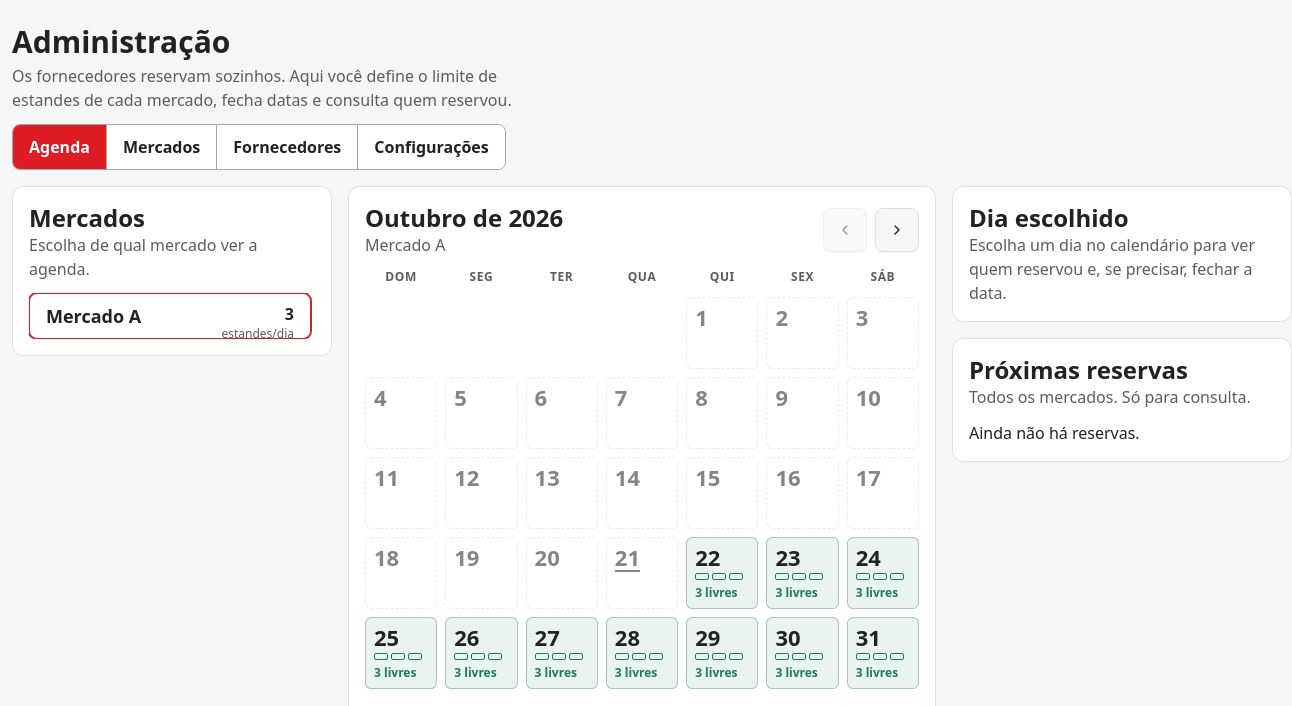
Test case: aba Fornecedores › reativa quem estava desativado
Click the button "Fornecedores" at (287,147), box [216,125,357,169]
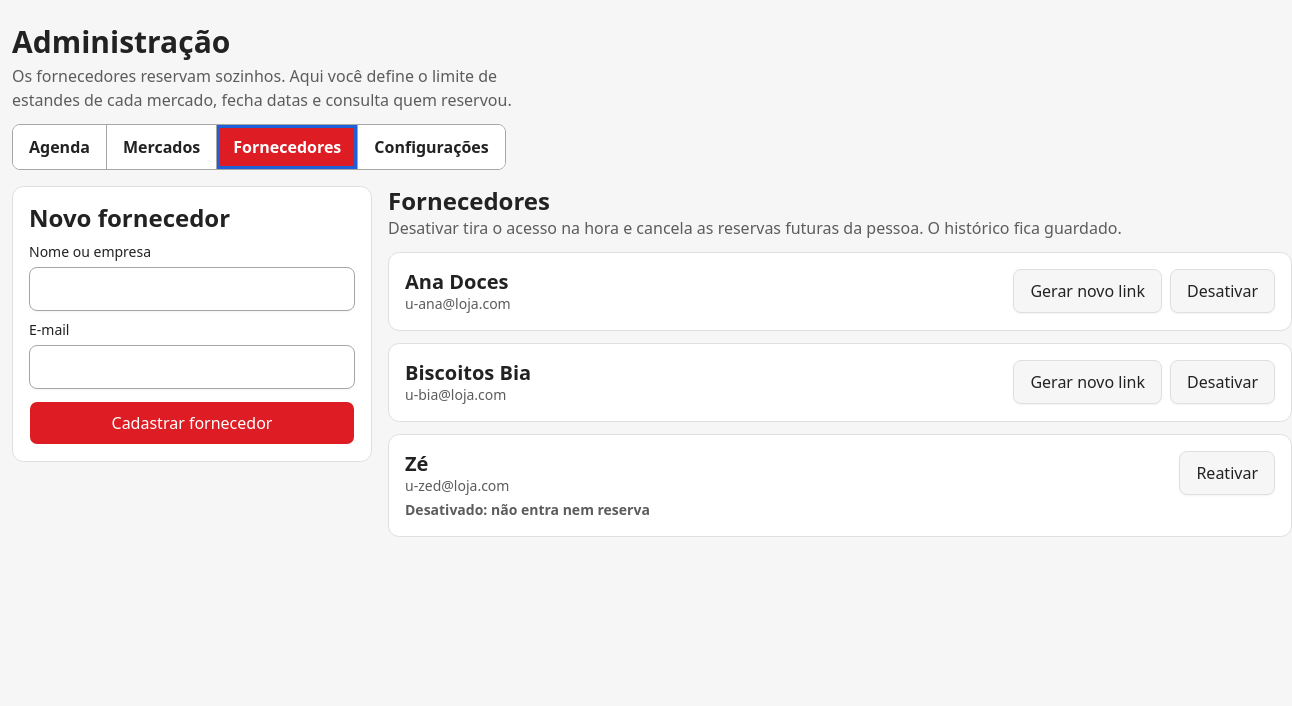
Click the button with aria-label "Reativar Zé" at (1227,473), box [1179,451,1275,495]
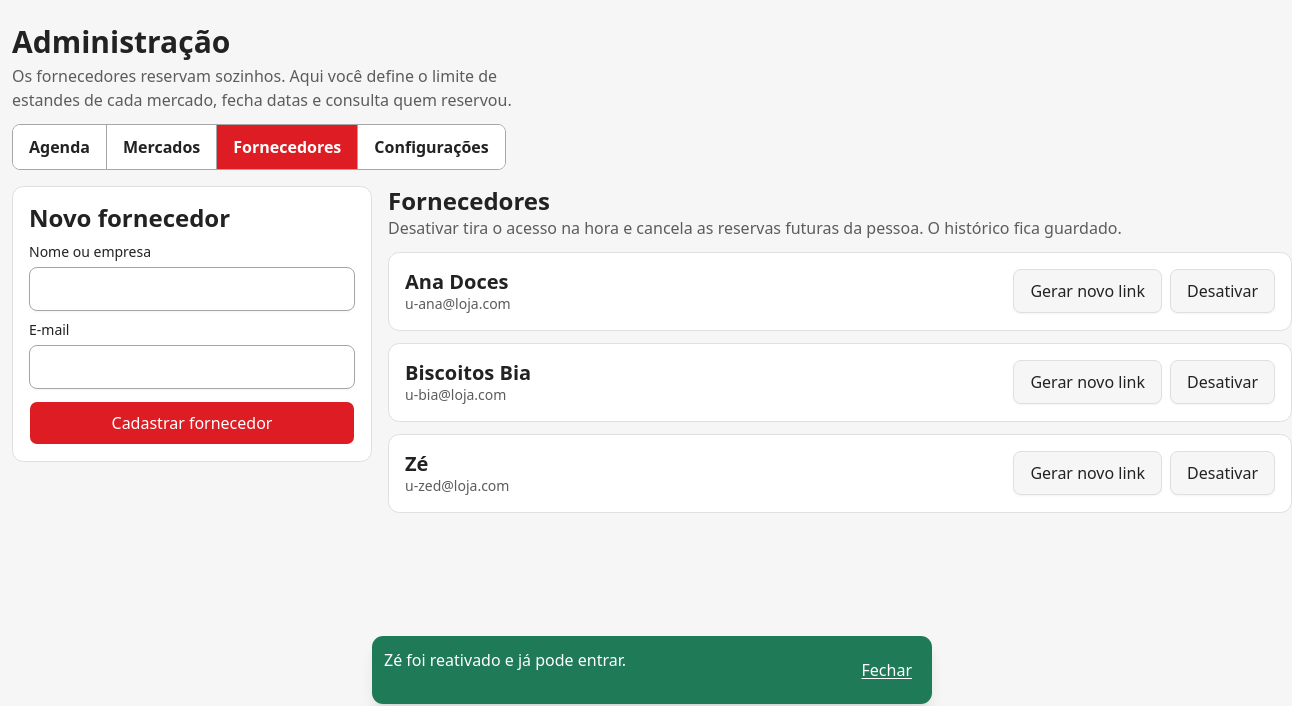
expect the text "Zé foi reativado e já pode entrar." is shown: met, box [384,648,626,672]
expect the button with aria-label "Desativar Zé" is shown: met, box [1170,451,1275,495]
